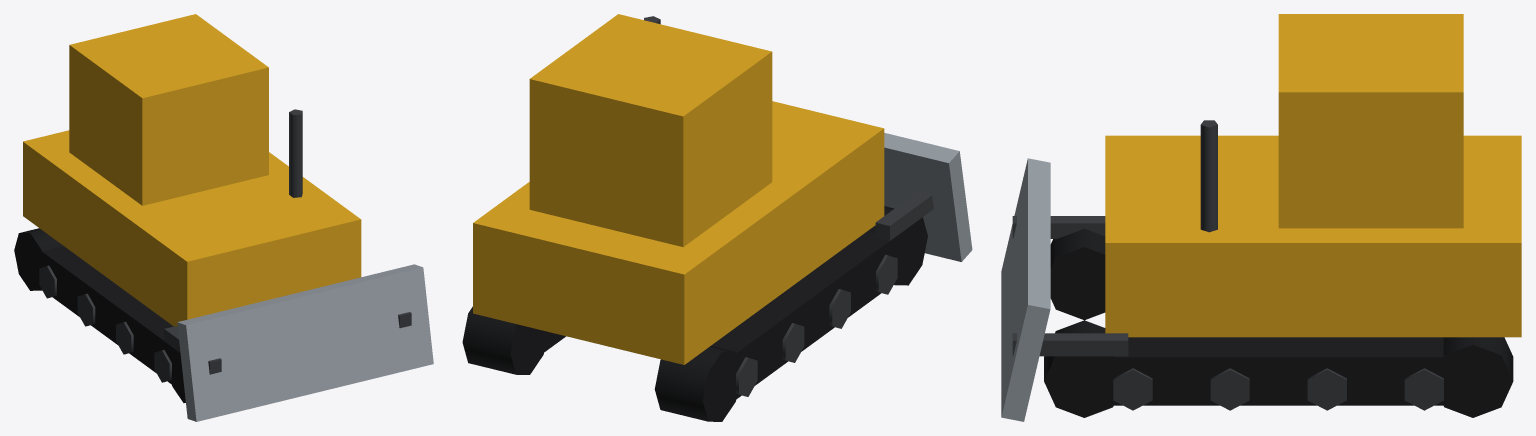
The model's file is veh_ground_bulldozer_a05.glb.
3 renders of one model, left to right at view 1: azimuth 30°, elevation 25°; view 2: azimuth 150°, elevation 25°; view 3: azimuth 270°, elevation 25°, orthographic. The views are drawn at different scales.
Visible parts, largest first — view 1: body, blade, track_r; view 2: body, track_r, blade, track_l; view 3: body, track_l, blade, track_r.
Boxes of the visible parts, x1=… form: body: x1=23, y1=14, x2=361, y2=326; blade: x1=164, y1=264, x2=433, y2=421; track_r: x1=14, y1=228, x2=185, y2=402; body: x1=473, y1=14, x2=884, y2=364; track_r: x1=654, y1=206, x2=927, y2=421; blade: x1=875, y1=133, x2=972, y2=261; track_l: x1=462, y1=306, x2=565, y2=374; body: x1=1105, y1=14, x2=1521, y2=337; track_l: x1=1044, y1=320, x2=1513, y2=417; blade: x1=1001, y1=158, x2=1128, y2=421; track_r: x1=1050, y1=228, x2=1105, y2=320.
Size of what is drawn, in the model's own units: 3 by 2.9 by 4.5.
